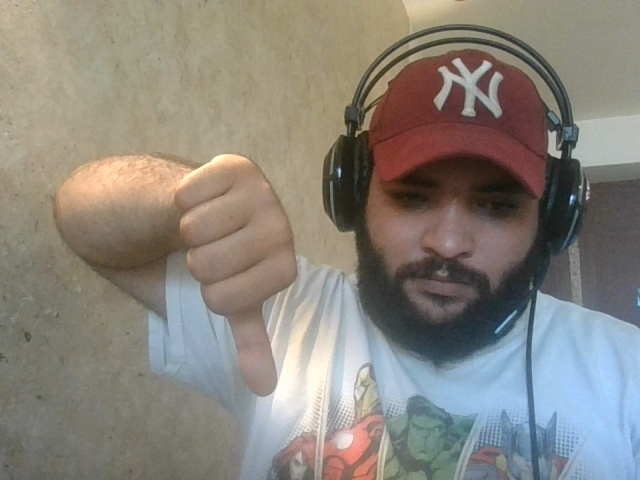no: (173, 152, 300, 398)
